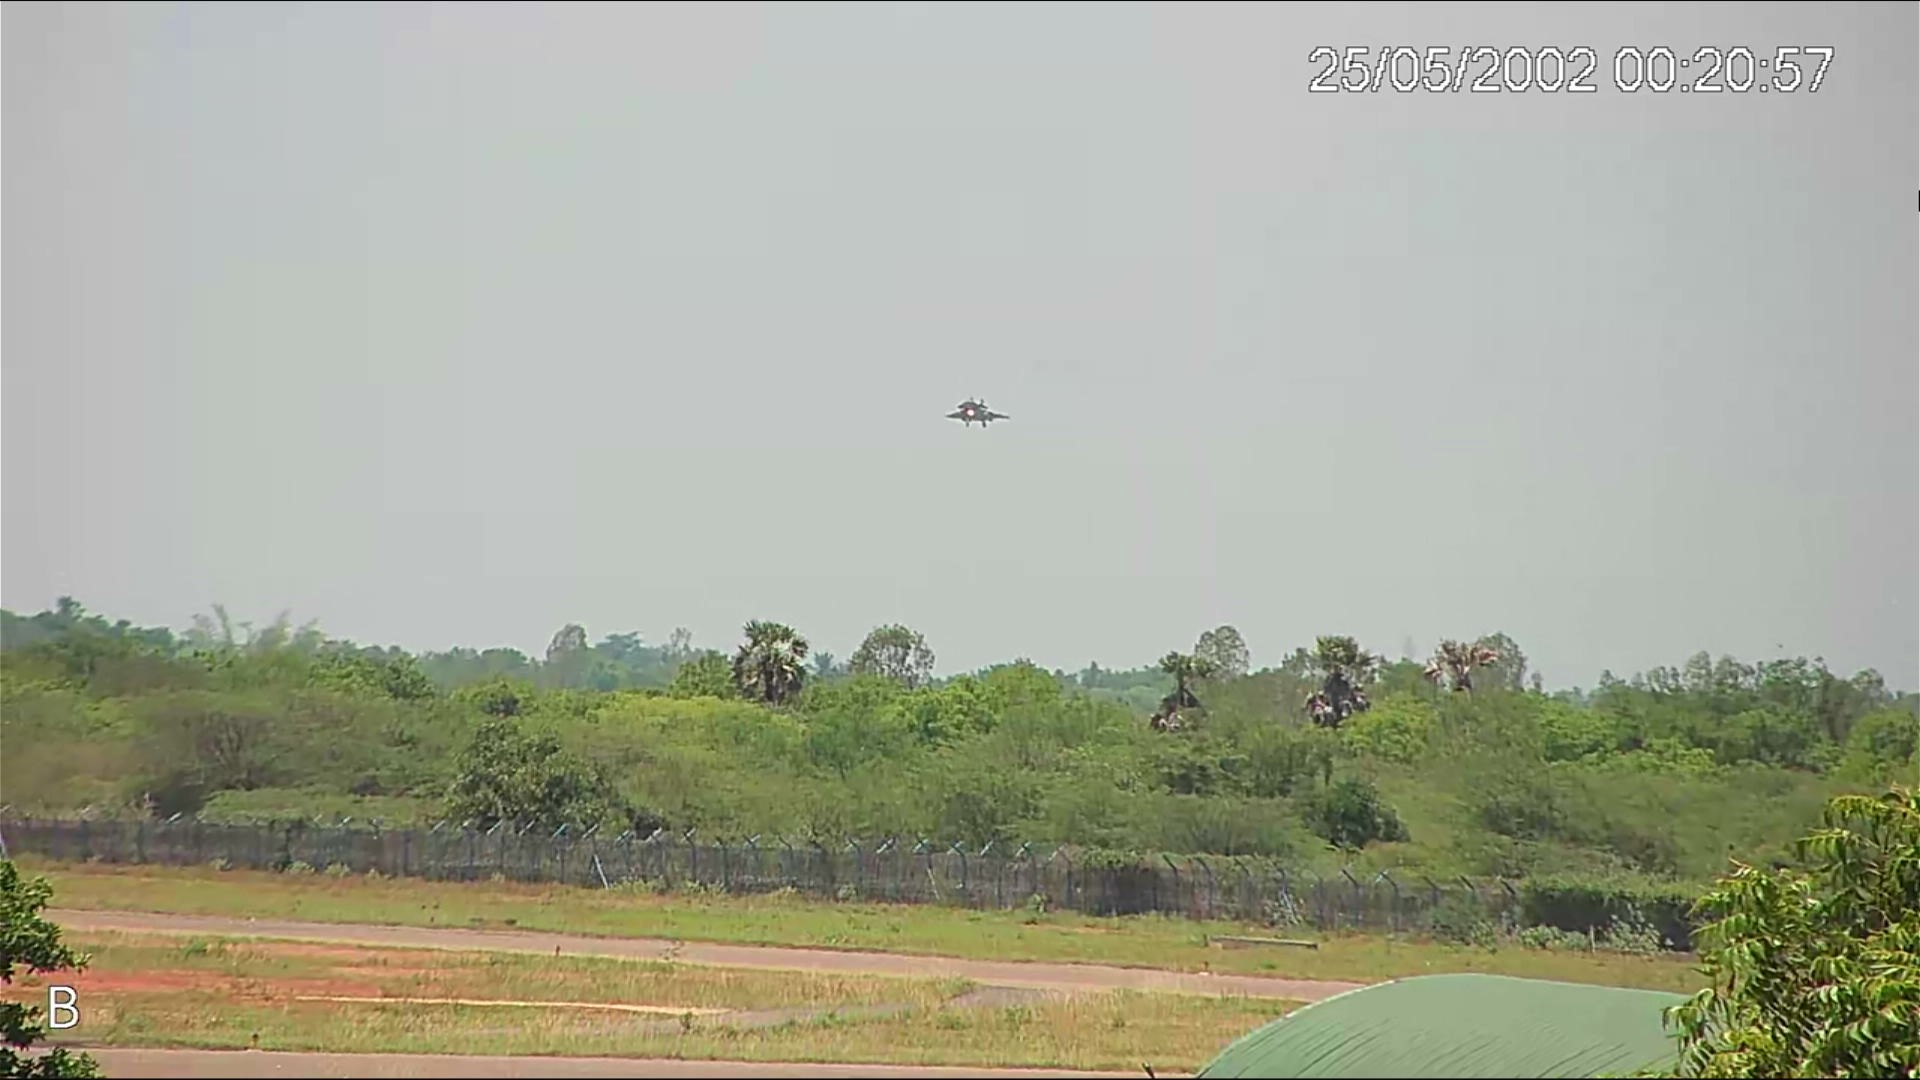SU_30: (944, 396, 1013, 433)
